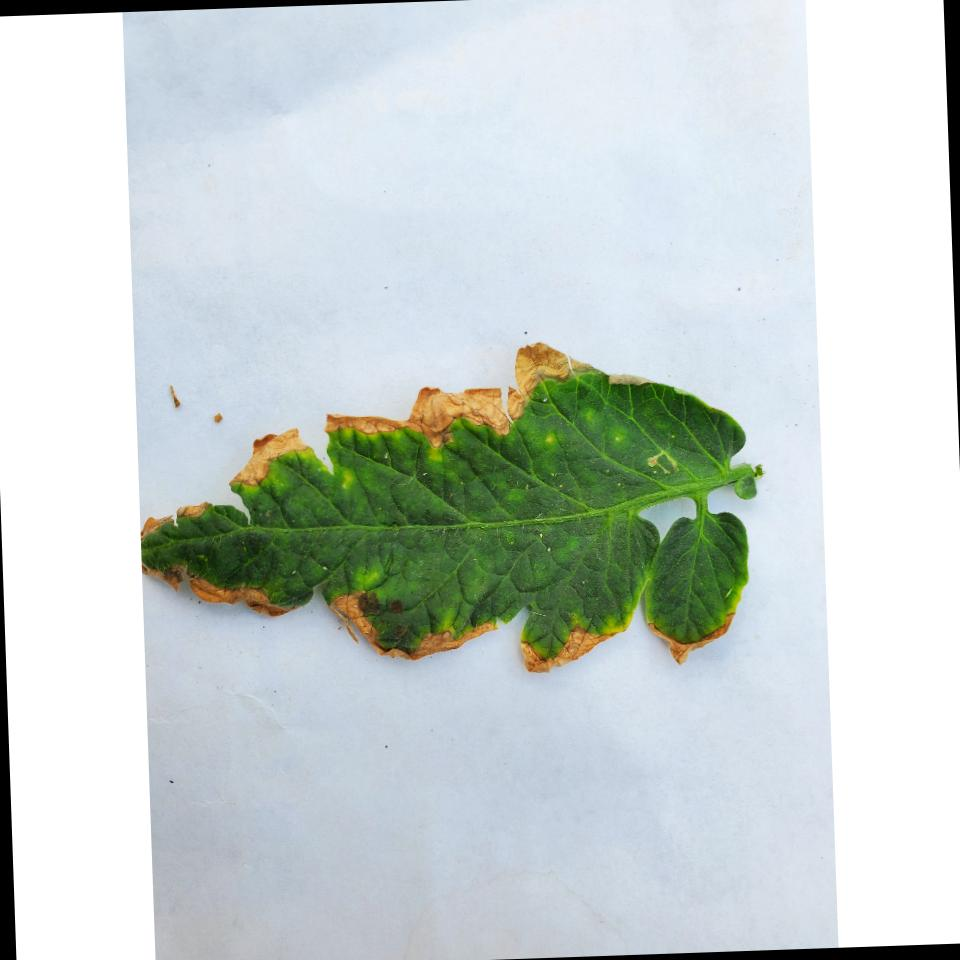tomato_bacterial_blight: (162, 390, 770, 670)
